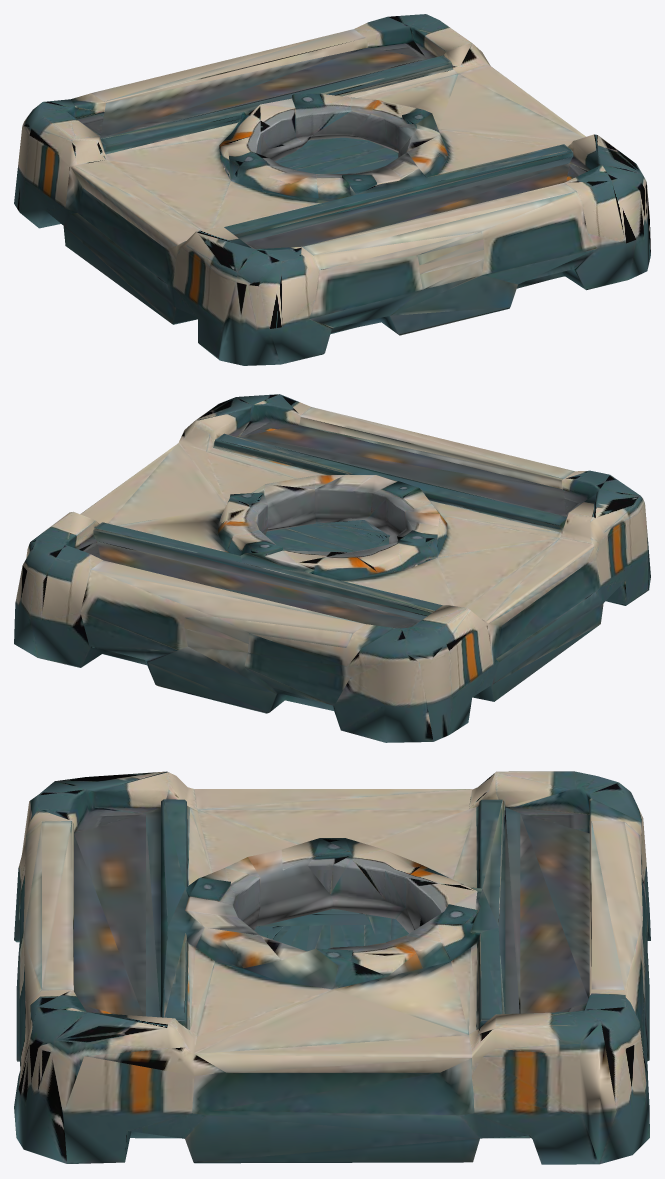
File: rocket_pad-lod1.0d1af574b11a.glb
3 renders of one model, top to bottom at view 1: azimuth 30°, elevation 25°; view 2: azimuth 150°, elevation 25°; view 3: azimuth 270°, elevation 25°, orthographic. The views are drawn at different scales.
Visible parts, largest first — view 1: geometry_0; view 2: geometry_0; view 3: geometry_0.
Boxes of the visible parts, x1,y1,x2,y2 form: geometry_0: [14, 14, 650, 365]; geometry_0: [14, 394, 650, 742]; geometry_0: [14, 771, 650, 1164].
Bounding box in the file's own units: 0.9507 × 0.2061 × 0.9243.
Materials: 1 (1 with a texture image).
